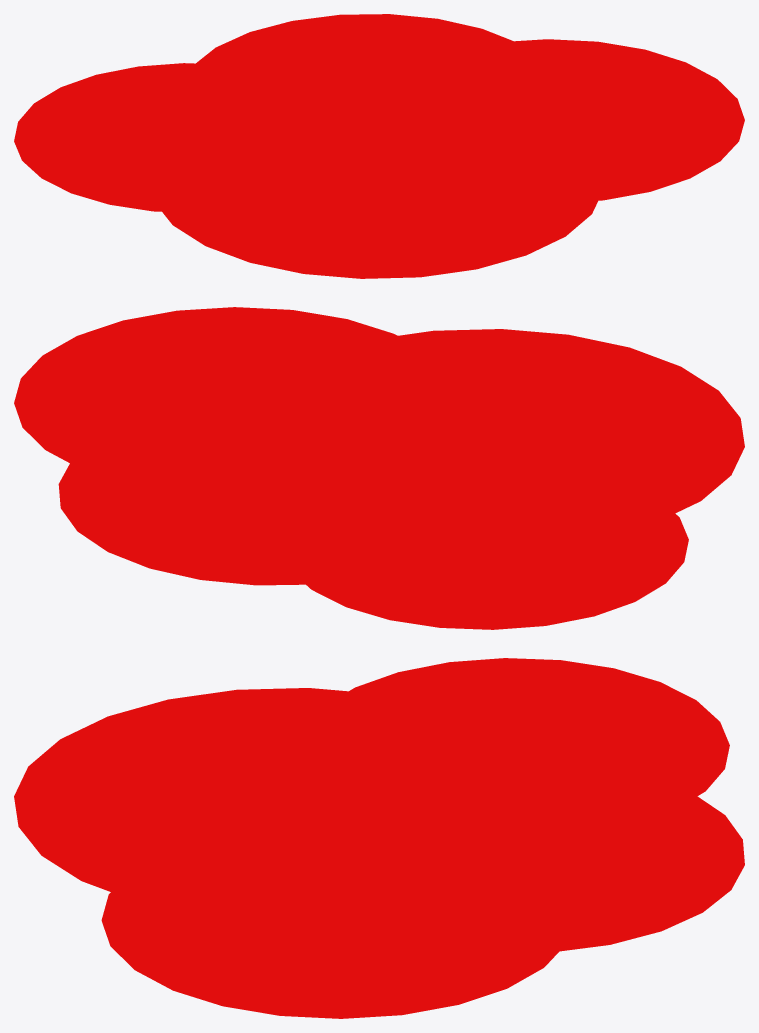
Rendered from oil_spill.dae.
3 renders of one model, top to bottom at view 1: azimuth 30°, elevation 25°; view 2: azimuth 150°, elevation 25°; view 3: azimuth 270°, elevation 25°, orthographic. The views are drawn at different scales.
Parts seen in each view (by area): view 1: group_0; view 2: group_0; view 3: group_0.
Boxes of the visible parts, <box> form: group_0: <box>14,14,744,278</box>; group_0: <box>14,307,744,629</box>; group_0: <box>14,658,744,1018</box>.
Size of the model in its own units: 141 by 120 by 0.
